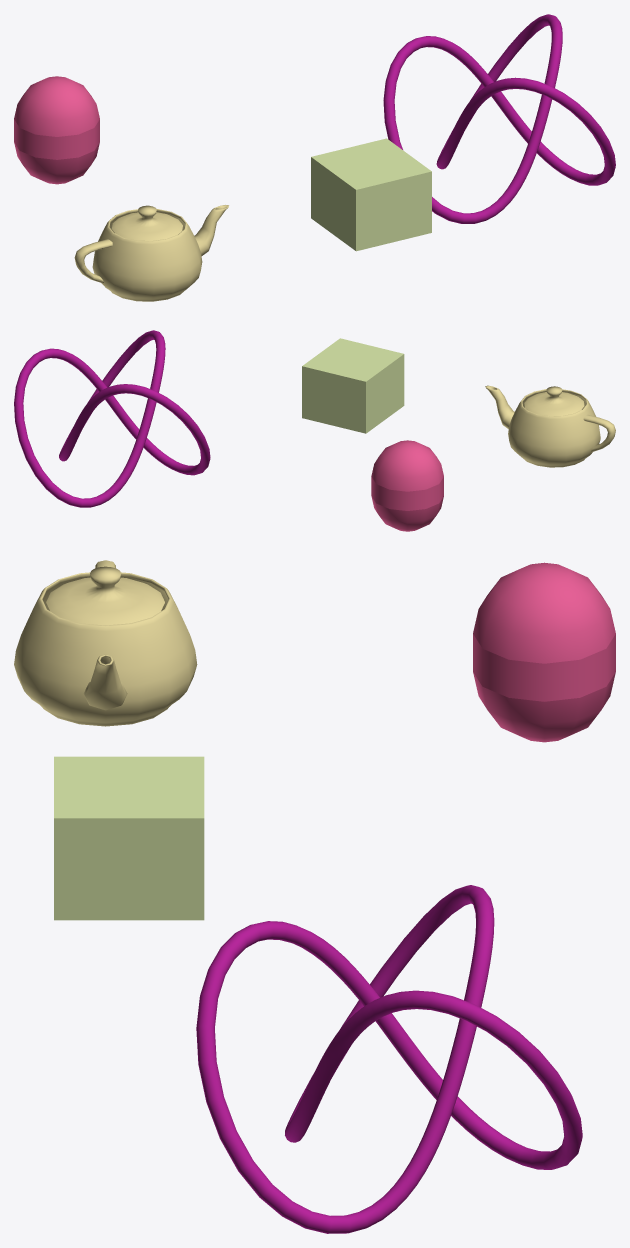
Rendered from baseModel.obj.
3 renders of one model, top to bottom at view 1: azimuth 30°, elevation 25°; view 2: azimuth 150°, elevation 25°; view 3: azimuth 270°, elevation 25°, orthographic. The views are drawn at different scales.
Parts seen in each view (by area): view 1: Torus_Knot001, Box001, Teapot001, OilTank001; view 2: Torus_Knot001, Box001, Teapot001, OilTank001; view 3: Torus_Knot001, Box001, Teapot001, OilTank001.
Boxes of the visible parts, x1,y1,x2,y2 form: Torus_Knot001: (383, 14, 615, 223); Box001: (311, 138, 431, 251); Teapot001: (74, 205, 228, 301); OilTank001: (14, 76, 99, 184); Torus_Knot001: (14, 330, 210, 507); Box001: (302, 338, 404, 433); Teapot001: (485, 385, 615, 467); OilTank001: (371, 440, 443, 531); Torus_Knot001: (196, 885, 582, 1233); Box001: (54, 756, 204, 920); Teapot001: (14, 560, 197, 726); OilTank001: (473, 562, 615, 742).
Size of the model in its own units: 276 by 77.5 by 148.
